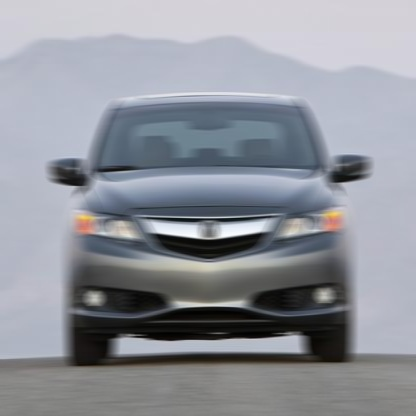Vehicle: (49, 89, 371, 367)
